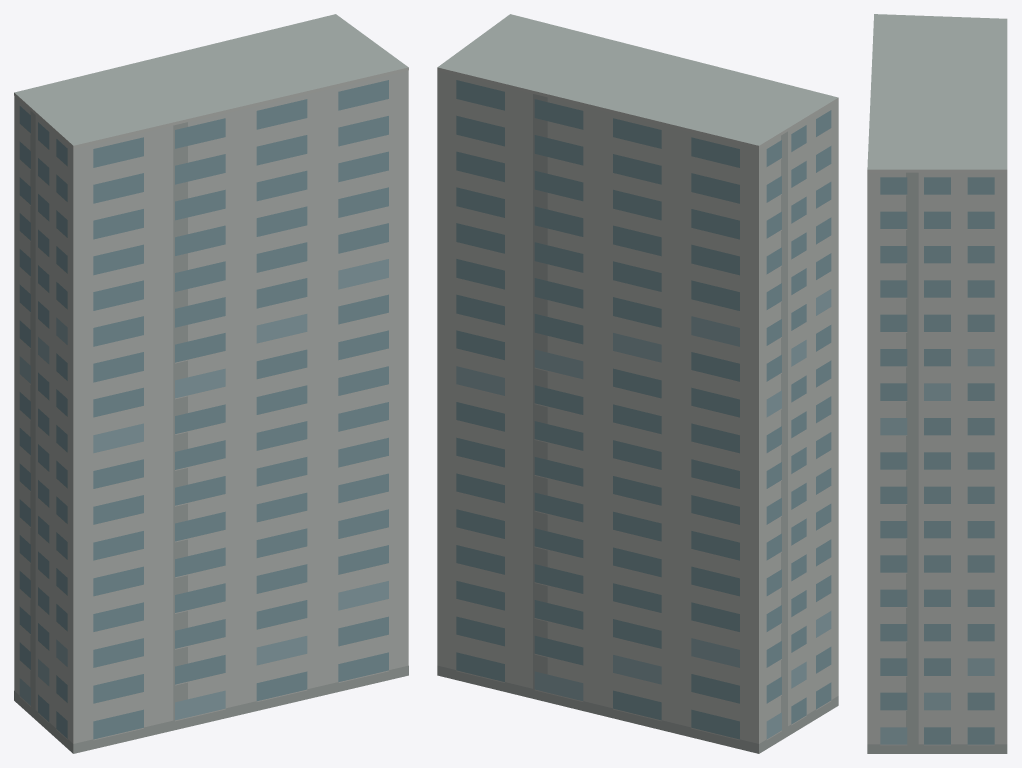
File: residential-c554ce6e-400e-4d20-a125-6f7ef849098f.glb
The picture shows the model from 3 angles, left to right: view 1: azimuth 30°, elevation 25°; view 2: azimuth 150°, elevation 25°; view 3: azimuth 270°, elevation 25°; orthographic projection. The views are drawn at different scales.
Visible parts, largest first — view 1: residential-c554ce6e-400e-4d20-a125-6f7ef849098f.tmp; view 2: residential-c554ce6e-400e-4d20-a125-6f7ef849098f.tmp; view 3: residential-c554ce6e-400e-4d20-a125-6f7ef849098f.tmp.
Part boxes in pixels (x1,y1,x2,y2): residential-c554ce6e-400e-4d20-a125-6f7ef849098f.tmp: (14,14,408,753); residential-c554ce6e-400e-4d20-a125-6f7ef849098f.tmp: (437,14,838,753); residential-c554ce6e-400e-4d20-a125-6f7ef849098f.tmp: (867,14,1007,753).
Bounding box in the file's own units: 27.43 × 48 × 10.45.
